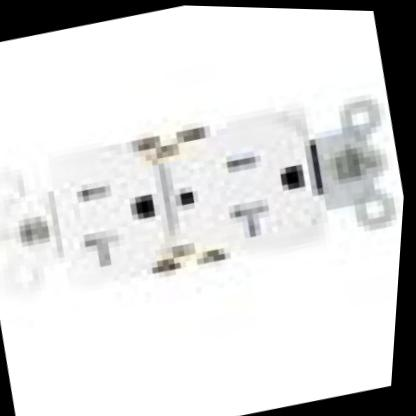OUTLET: (17, 88, 338, 318)
